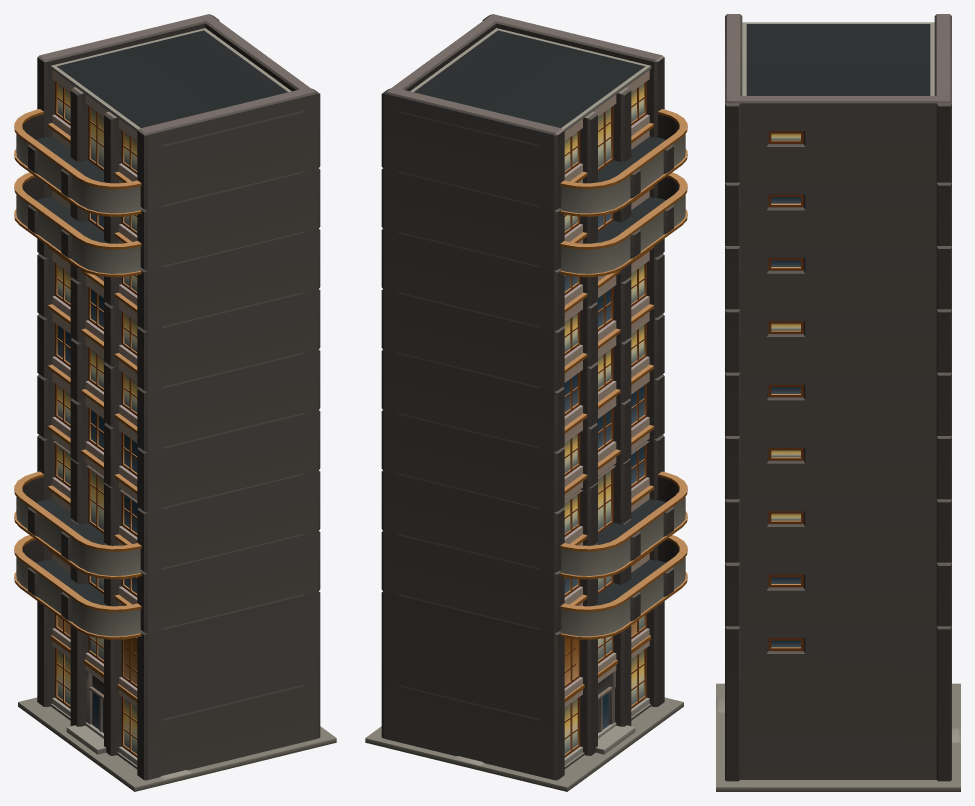
The model's file is Building_22A.fbx.
3 renders of one model, left to right at view 1: azimuth 30°, elevation 25°; view 2: azimuth 150°, elevation 25°; view 3: azimuth 270°, elevation 25°, orthographic. The views are drawn at different scales.
Parts seen in each view (by area): view 1: Building_22A, Window_Lights_22A; view 2: Building_22A, Window_Lights_22A; view 3: Building_22A, Window_Lights_22A.
Boxes of the visible parts, x1,y1,x2,y2 form: Building_22A: (14,14,336,791); Window_Lights_22A: (57,83,137,753); Building_22A: (365,14,687,791); Window_Lights_22A: (564,83,644,753); Building_22A: (716,14,960,791); Window_Lights_22A: (771,133,800,520).
Size of the model in its own units: 1598 by 4310 by 1400.
